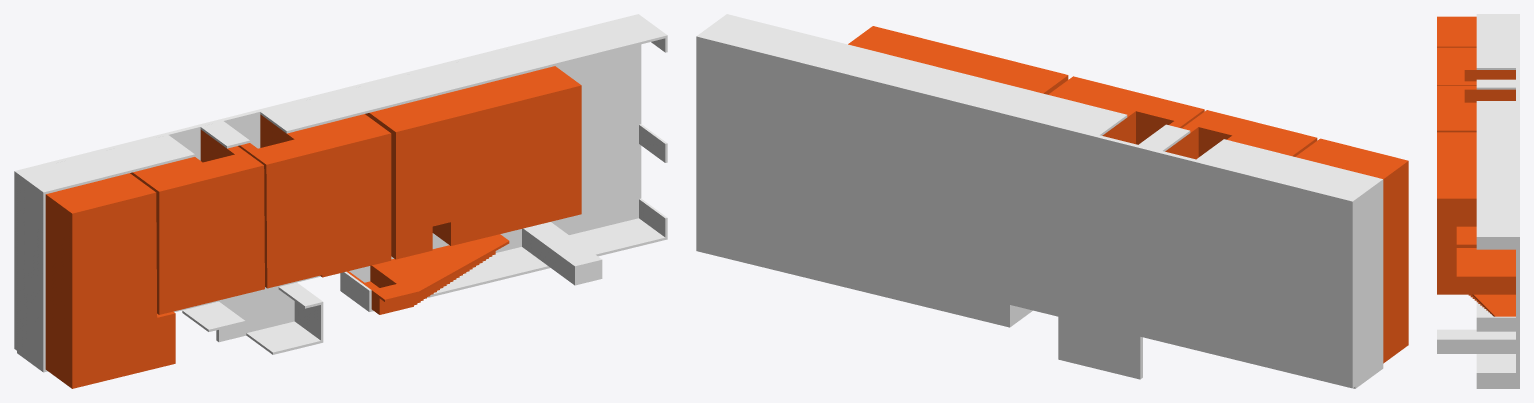
Rendered from Edificio B - Piso 1.obj.
3 views of the same model, side by side, from view 1: azimuth 30°, elevation 25°; view 2: azimuth 150°, elevation 25°; view 3: azimuth 270°, elevation 25° (orthographic). The views are drawn at different scales.
Visible parts, largest first — view 1: Cuerpo 4, Cuerpo 1, Cuerpo 3, Cuerpo 0, Cuerpo 2, Cuerpo 13, Cuerpo 10, Cuerpo 12, Cuerpo 5, Cuerpo 7, Cuerpo 11, Cuerpo 8 (+2 smaller); view 2: Cuerpo 0, Cuerpo 13, Cuerpo 10, Cuerpo 1, Cuerpo 4, Cuerpo 3, Cuerpo 2, Cuerpo 9; view 3: Cuerpo 4, Cuerpo 13, Cuerpo 3, Cuerpo 10, Cuerpo 2, Cuerpo 7, Cuerpo 12, Cuerpo 0, Cuerpo 1, Cuerpo 5, Cuerpo 6, Cuerpo 9.
Part boxes in pixels (box(x1,y1,x2,y2)): Cuerpo 4: box(365, 66, 581, 259); Cuerpo 1: box(45, 173, 175, 388); Cuerpo 3: box(238, 114, 391, 288); Cuerpo 0: box(14, 14, 641, 350); Cuerpo 2: box(130, 129, 264, 314); Cuerpo 13: box(260, 16, 667, 133); Cuerpo 10: box(17, 135, 194, 372); Cuerpo 12: box(343, 198, 667, 311); Cuerpo 5: box(347, 234, 509, 314); Cuerpo 7: box(522, 222, 602, 285); Cuerpo 11: box(246, 282, 323, 354); Cuerpo 8: box(182, 301, 245, 331); Cuerpo 0: box(696, 34, 1355, 388); Cuerpo 13: box(699, 14, 1127, 135); Cuerpo 10: box(1196, 139, 1383, 388); Cuerpo 1: box(1295, 138, 1408, 363); Cuerpo 4: box(848, 26, 1068, 94); Cuerpo 3: box(1048, 76, 1204, 144); Cuerpo 2: box(1165, 110, 1317, 159); Cuerpo 9: box(1138, 124, 1190, 151); Cuerpo 4: box(1437, 132, 1515, 294); Cuerpo 13: box(1476, 101, 1515, 249); Cuerpo 3: box(1437, 86, 1515, 132); Cuerpo 10: box(1476, 14, 1515, 69); Cuerpo 2: box(1437, 47, 1515, 85); Cuerpo 7: box(1437, 329, 1515, 353); Cuerpo 12: box(1476, 302, 1515, 388); Cuerpo 0: box(1516, 14, 1519, 388); Cuerpo 1: box(1437, 16, 1476, 47); Cuerpo 5: box(1468, 294, 1515, 316); Cuerpo 6: box(1476, 316, 1515, 331); Cuerpo 9: box(1476, 79, 1515, 89).
Bounding box in the file's own units: 13.6 × 4.65 × 2.1.
